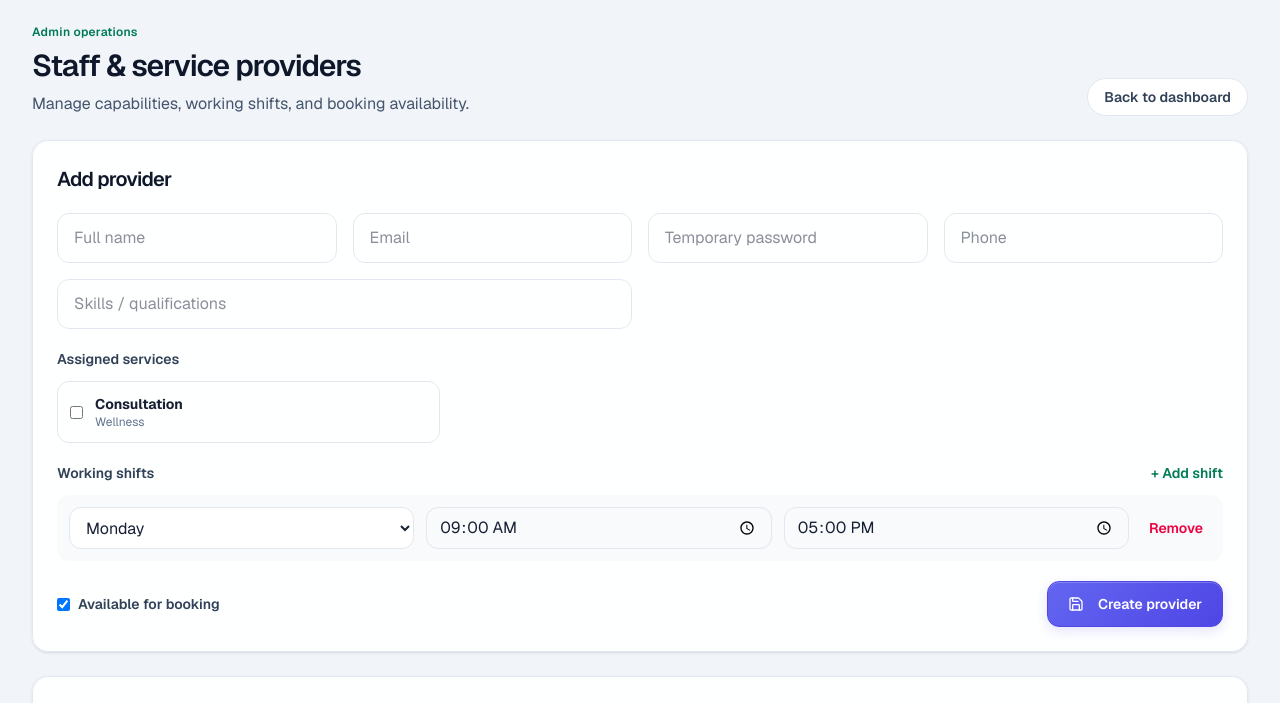
Scenario: account and provider management › requires an assigned service before creating a provider
Expected: the text "Consultation" is shown, [95,395,183,413]
Type "New Provider" into the field with placeholder "Full name" at (197, 238), box [57,213,336,263]
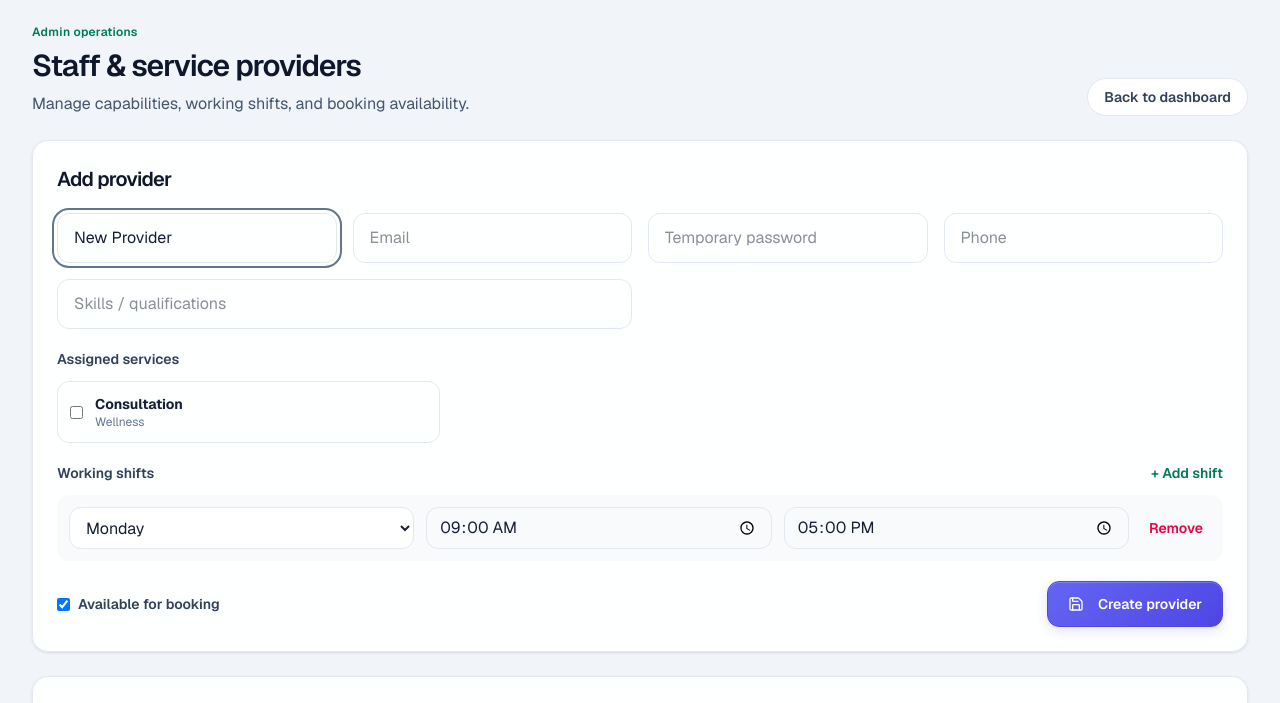
Type "provider@example.com" into the field with placeholder "Email" at (492, 238), box [352,213,632,263]
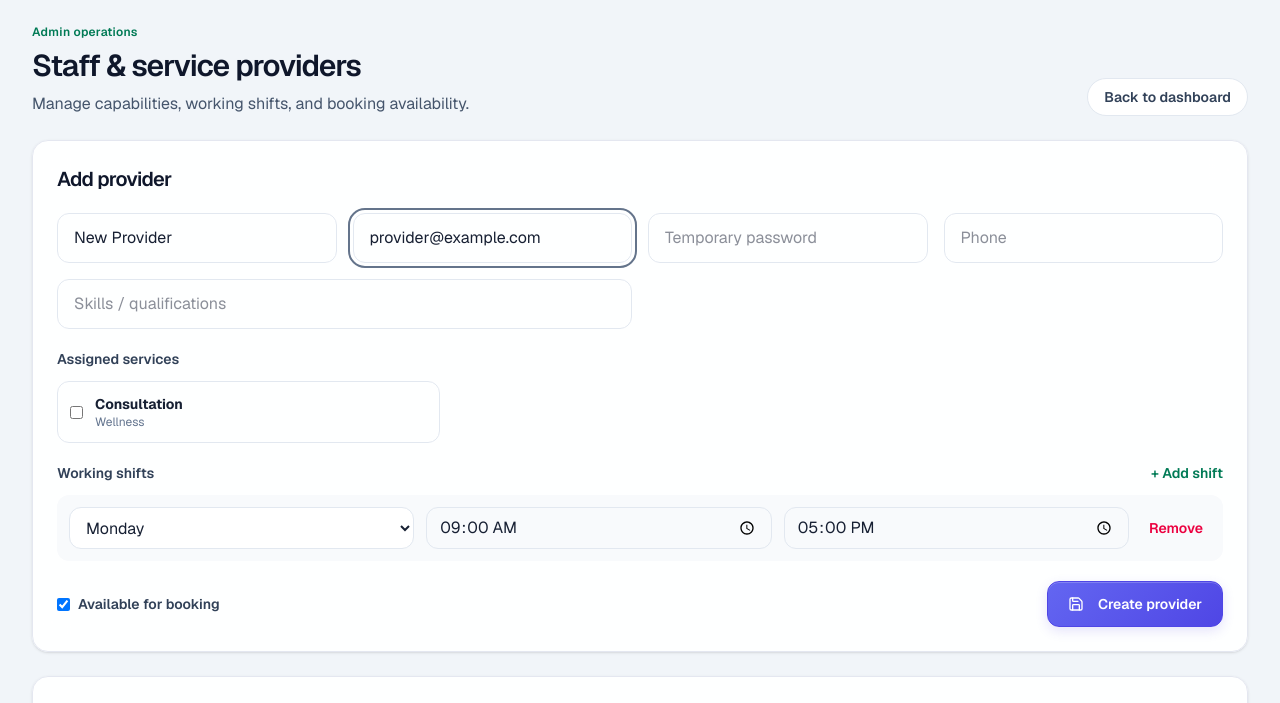
Type "Provider@123" into the password field with placeholder "Temporary password" at (788, 238), box [648,213,928,263]
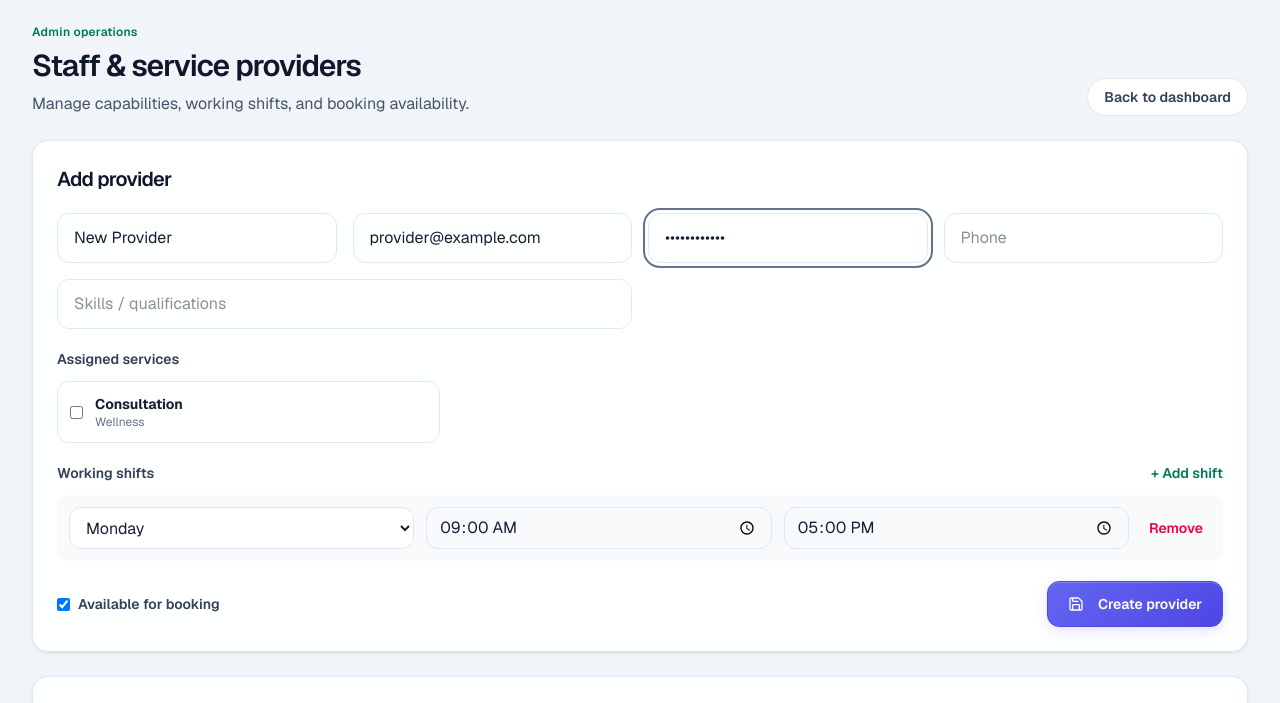
Click the button "Create provider" at (1135, 604), box [1047,581,1223,627]
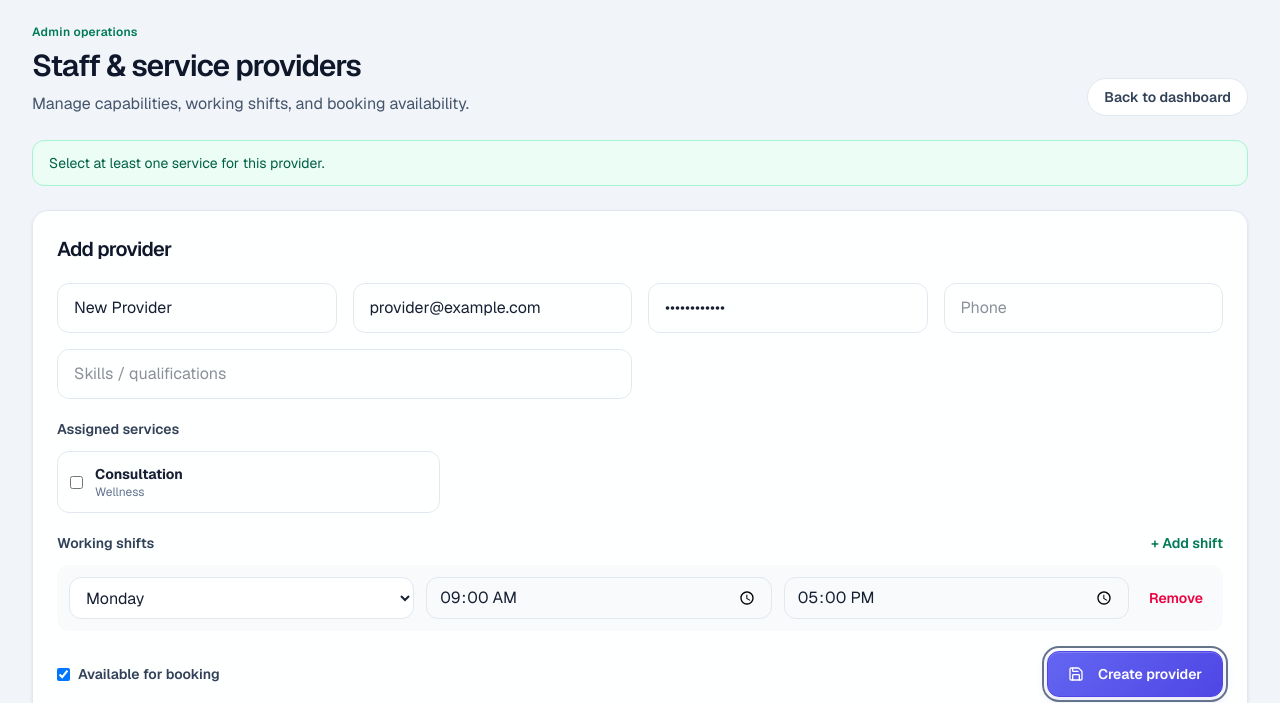
Expected: the text "Select at least one service for this provider." is shown, [32,140,1248,186]
Click the checkbox labelled "Consultation Wellness" at (76, 482), box [70,476,83,488]
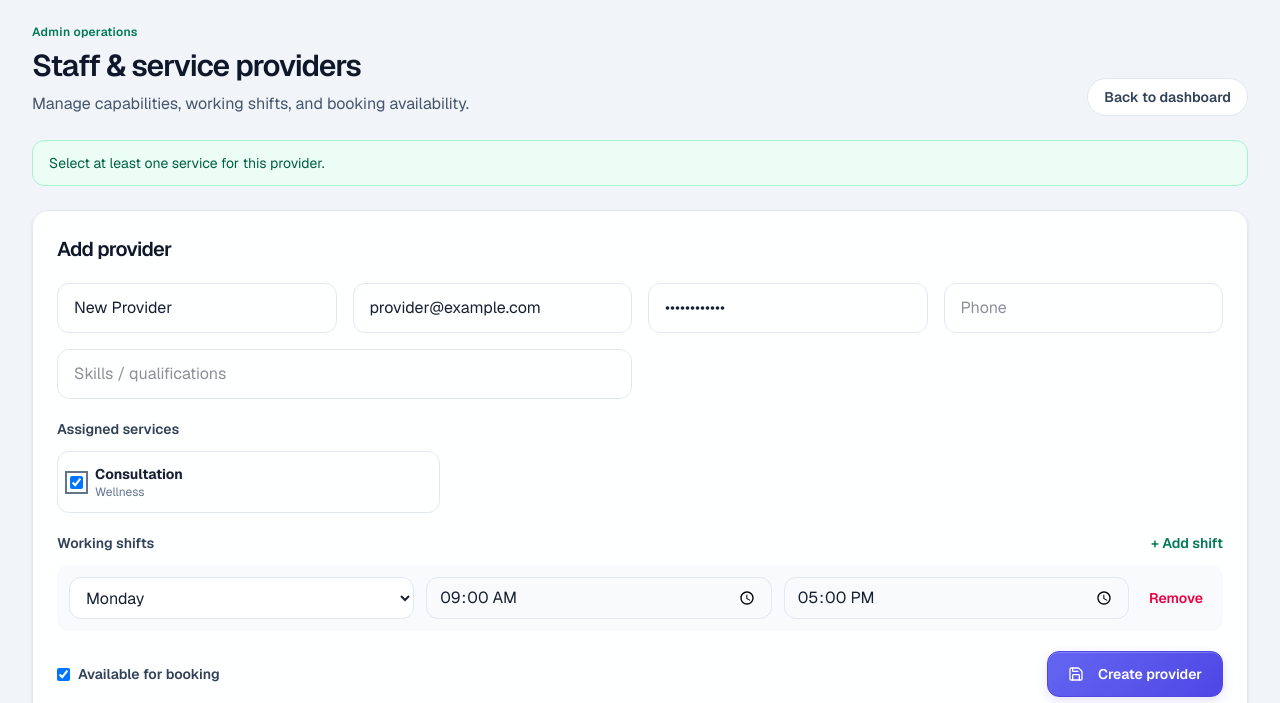
Click the button "Create provider" at (1135, 674), box [1047,651,1223,697]
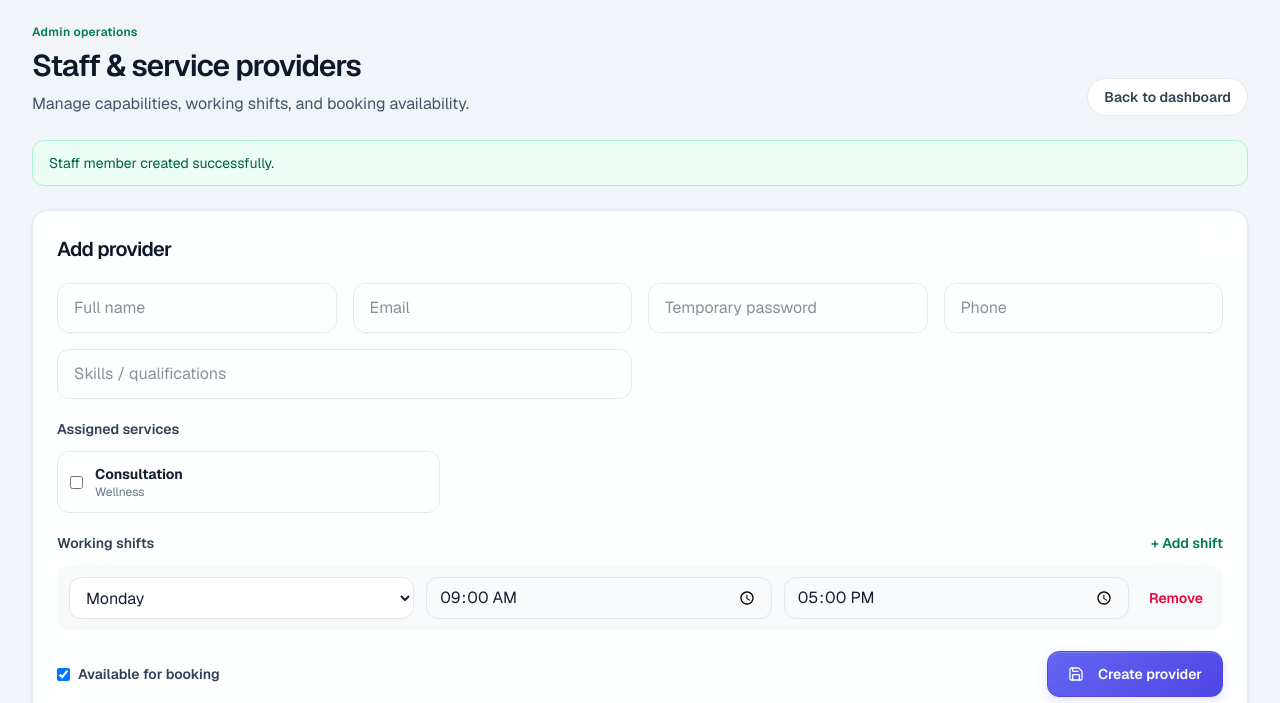
Expected: the text "Staff member created successfully." is shown, [32,140,1248,186]
